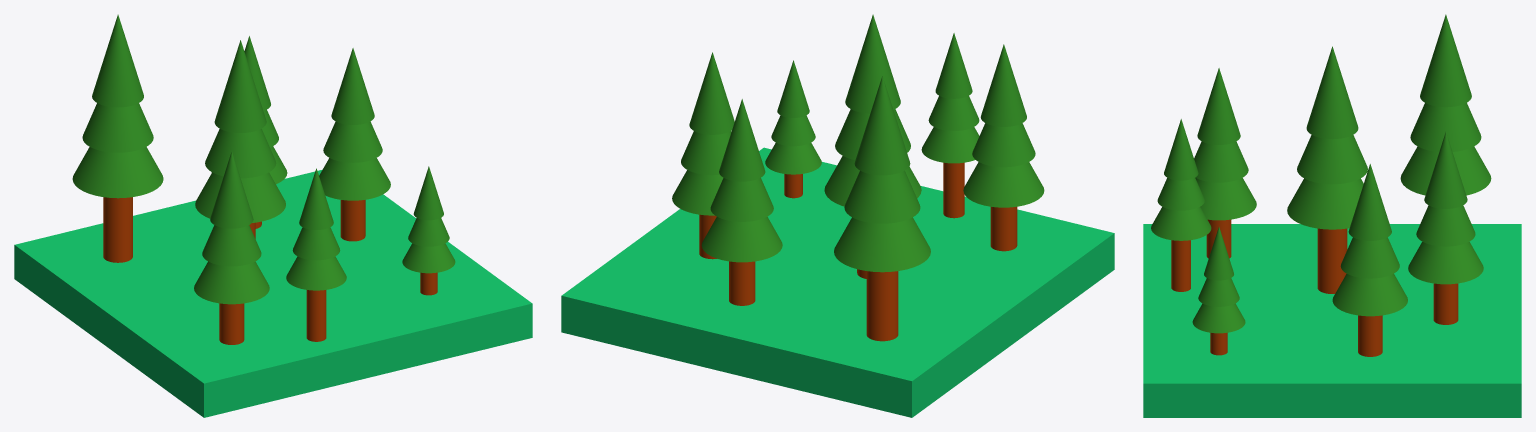
File: Forest.fbx
3 renders of one model, left to right at view 1: azimuth 30°, elevation 25°; view 2: azimuth 150°, elevation 25°; view 3: azimuth 270°, elevation 25°, orthographic. The views are drawn at different scales.
Parts seen in each view (by area): view 1: Baum_7; view 2: Baum_7; view 3: Baum_7.
Part boxes in pixels (x1=…): Baum_7: x1=14, y1=14, x2=532, y2=417; Baum_7: x1=561, y1=14, x2=1114, y2=417; Baum_7: x1=1143, y1=14, x2=1521, y2=417.
Bounding box in the file's own units: 100 × 80.58 × 100.
